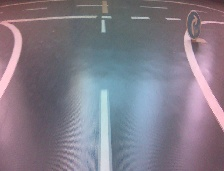turn right ahead sign: (186, 9, 202, 40)
